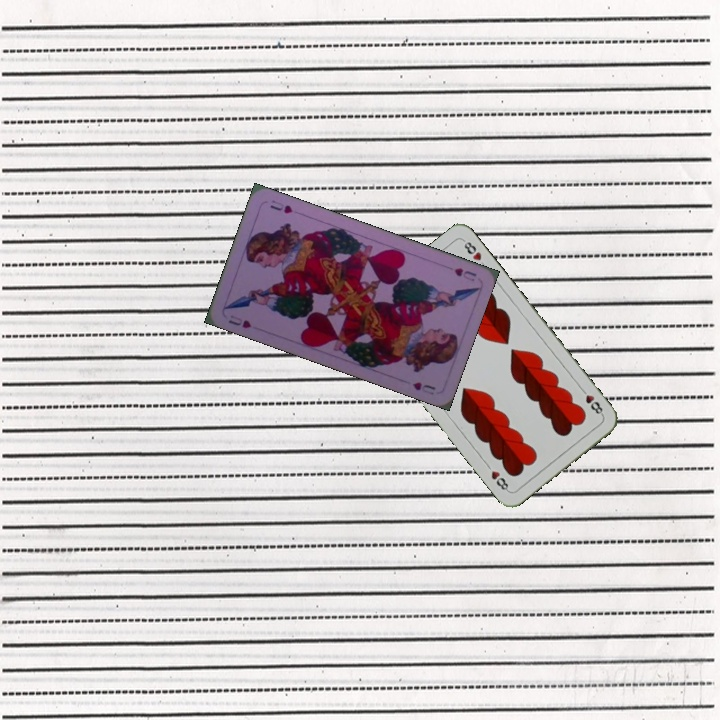H8: (576, 384, 606, 418)
HU: (224, 311, 254, 331), (450, 264, 479, 284)
